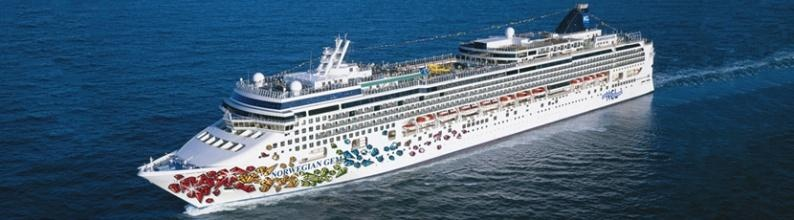youlun: (146, 4, 653, 211)
